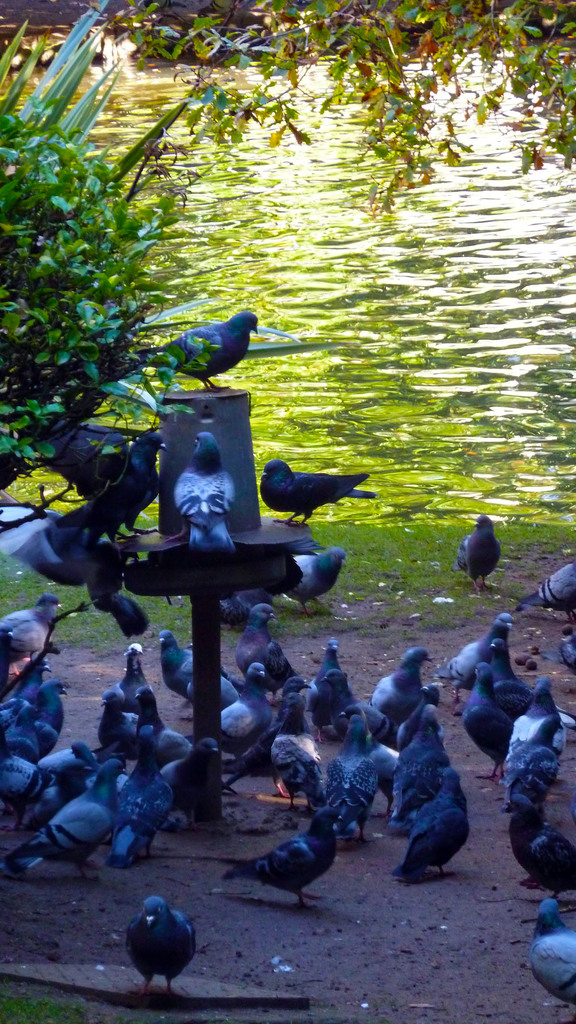Tree: (6, 0, 575, 220)
